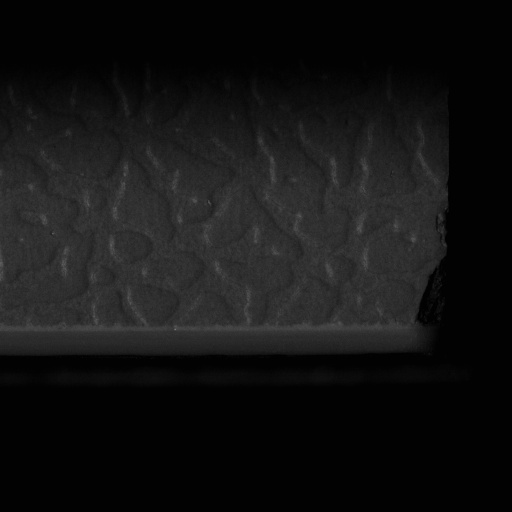bengque: (413, 261, 452, 331)
